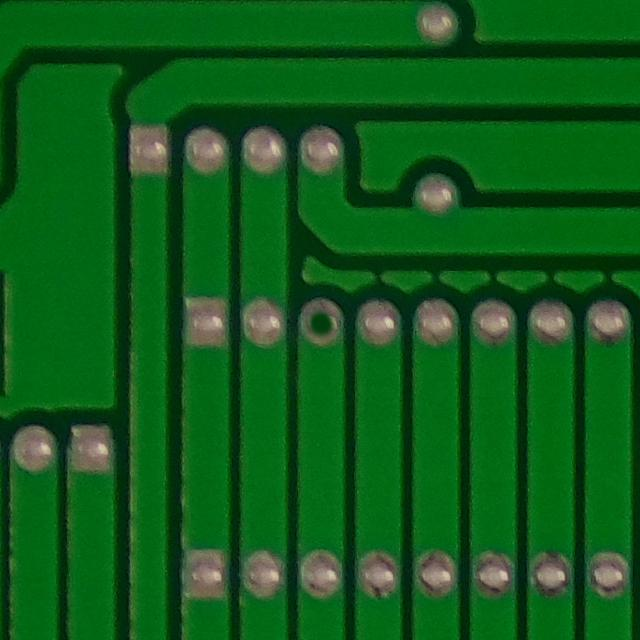missing_hole: (292, 288, 351, 355)
